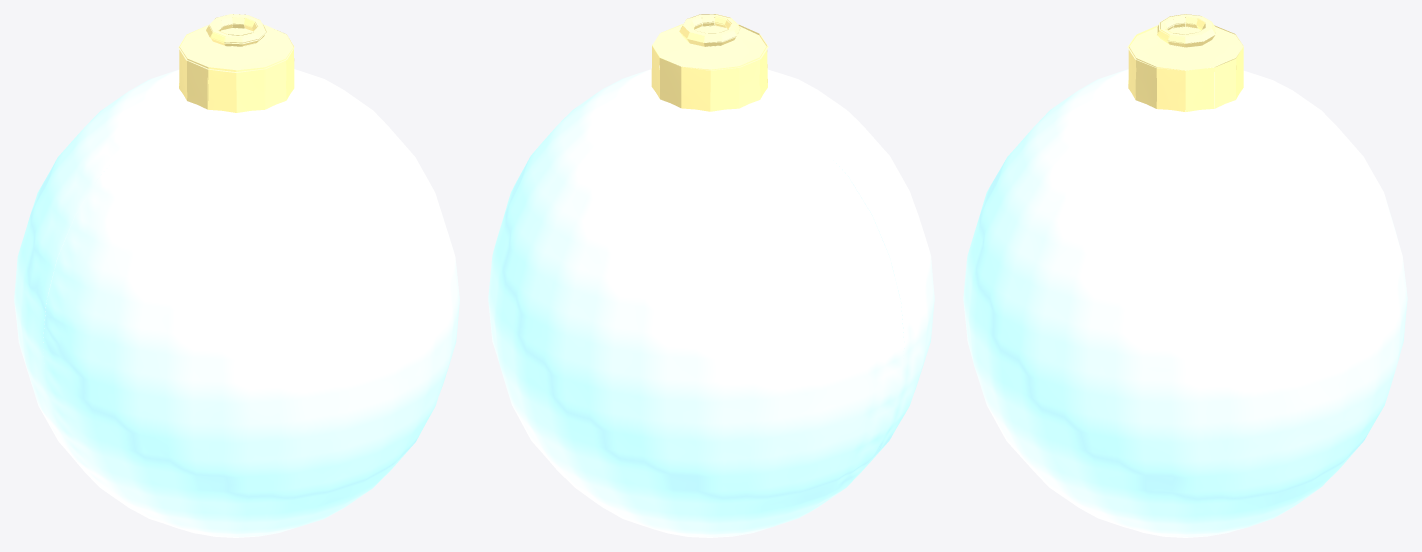
Rendered from xmas_bauble.glb.
The picture shows the model from 3 angles, left to right: view 1: azimuth 30°, elevation 25°; view 2: azimuth 150°, elevation 25°; view 3: azimuth 270°, elevation 25°; orthographic projection.
Visible parts, largest first — view 1: Bauble; view 2: Bauble; view 3: Bauble.
Boxes of the visible parts, x1,y1,x2,y2 form: Bauble: (14,14,459,537); Bauble: (488,14,934,537); Bauble: (963,14,1407,537).
Bounding box in the file's own units: 1.84 × 2.25 × 1.83.
